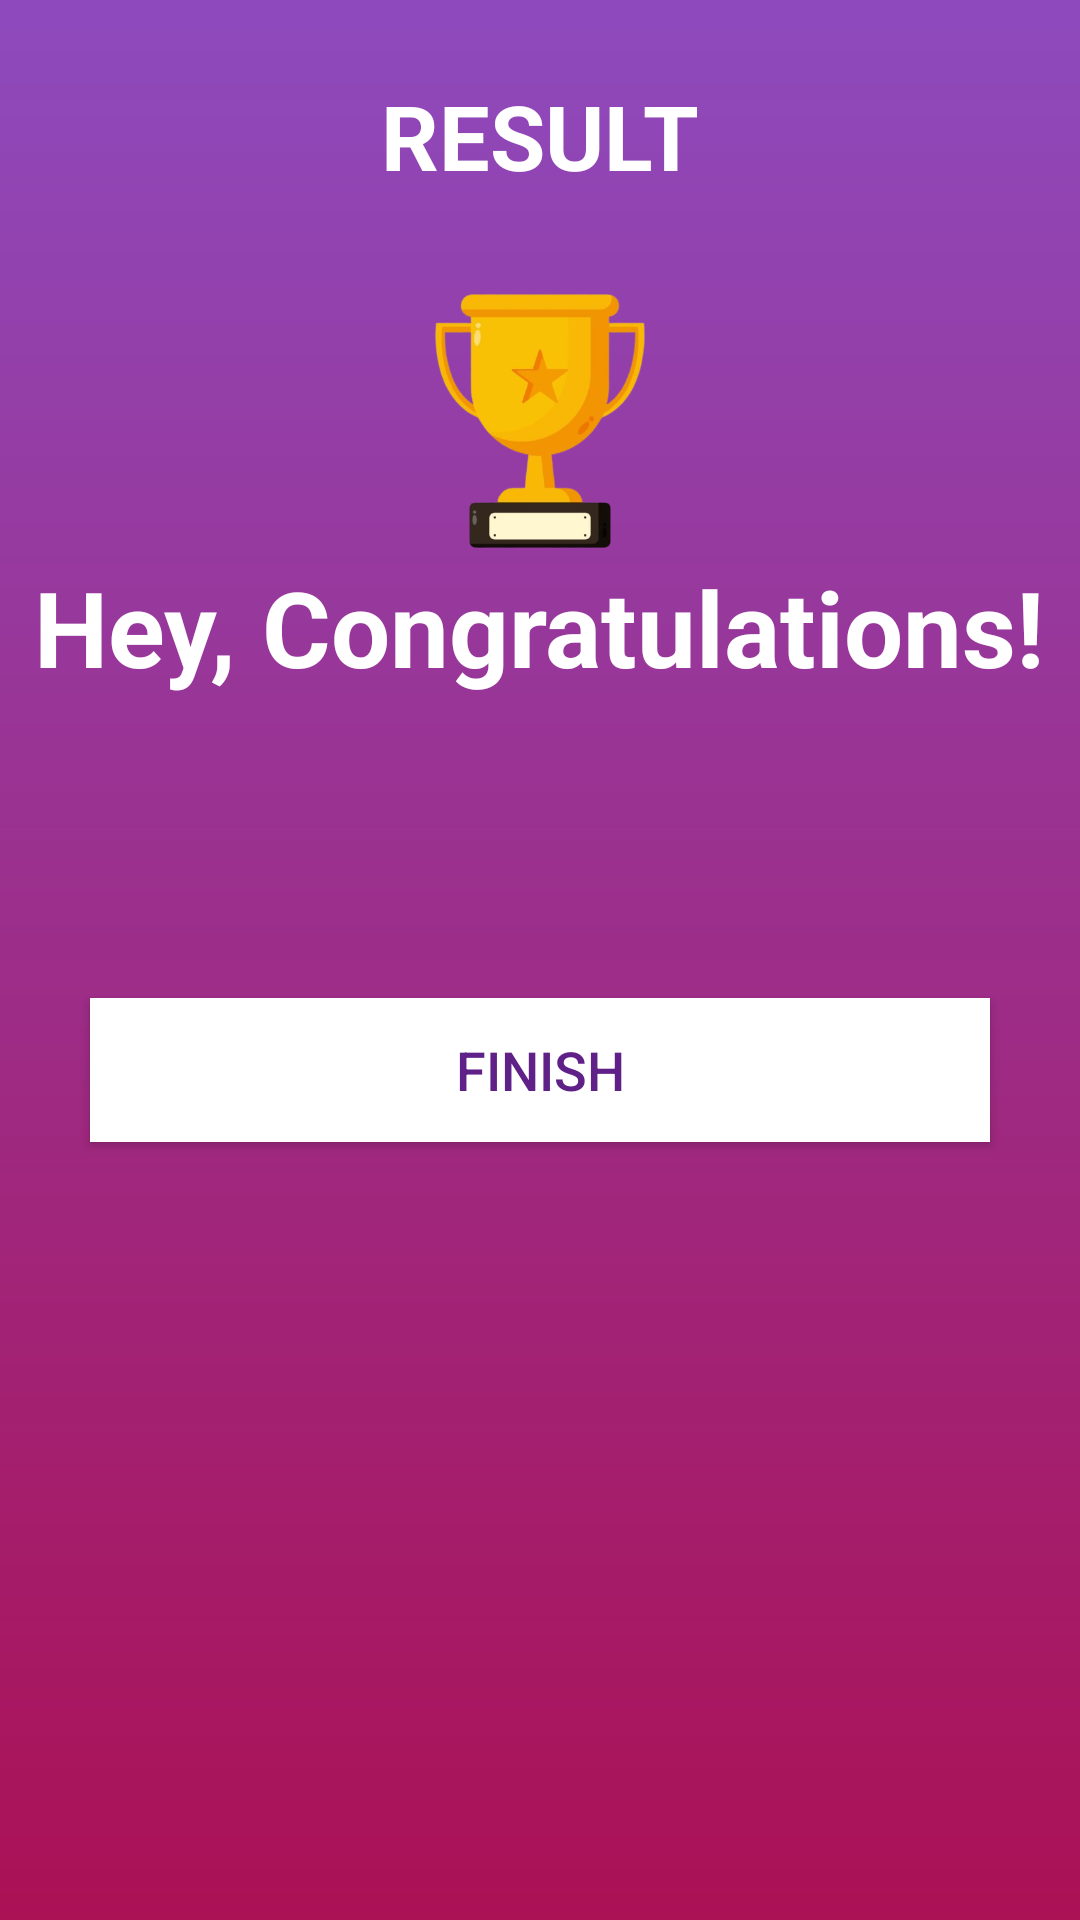

Screen size 1080*1920. Icon name, then its center in pixels as (x,y):
trophy: (540,421)
